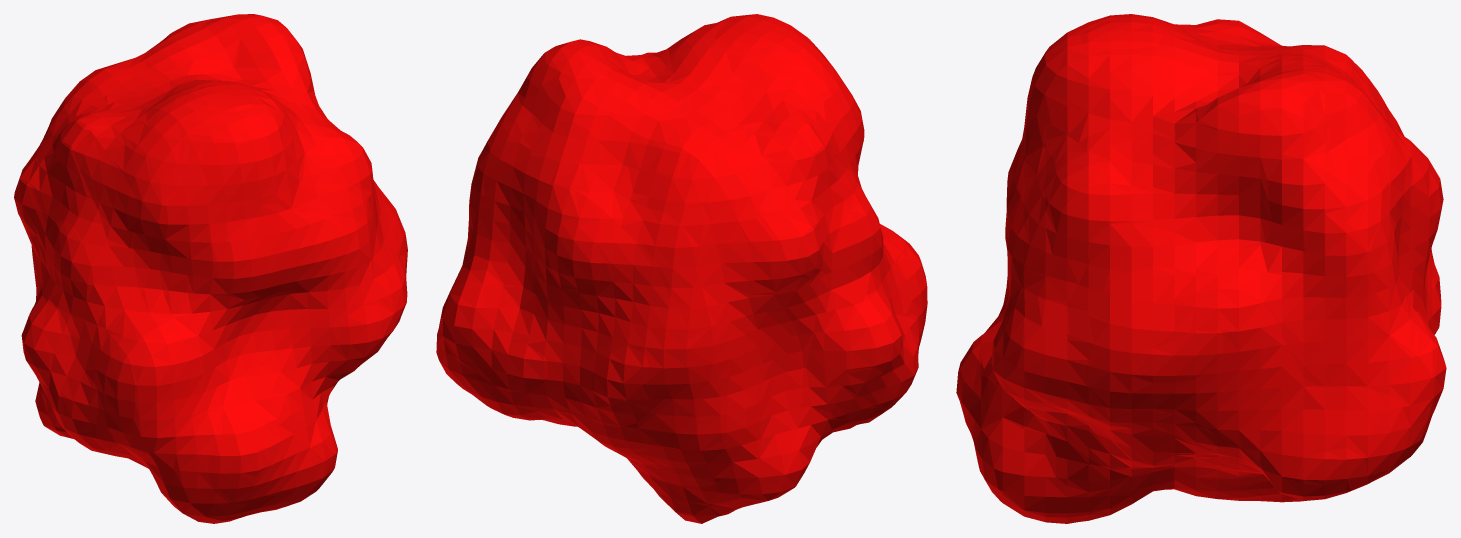
The model's file is speB_coarse.dae.
3 views of the same model, side by side, from view 1: azimuth 30°, elevation 25°; view 2: azimuth 150°, elevation 25°; view 3: azimuth 270°, elevation 25° (orthographic). The views are drawn at different scales.
Visible parts, largest first — view 1: speB; view 2: speB; view 3: speB.
Boxes of the visible parts, left/top/right/bottom form: speB: left=14, top=14, right=407, bottom=523; speB: left=436, top=14, right=927, bottom=523; speB: left=956, top=14, right=1446, bottom=523.
Bounding box in the file's own units: 47.4 × 51.63 × 47.05.
